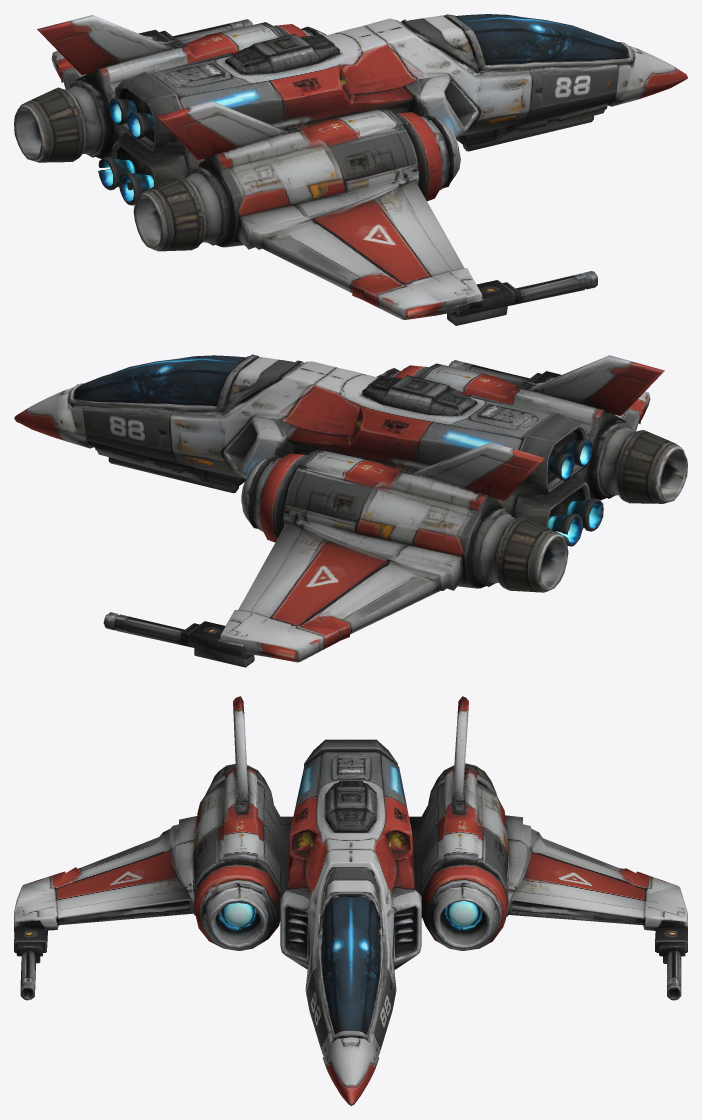
The model's file is player_ship.glb.
3 renders of one model, top to bottom at view 1: azimuth 30°, elevation 25°; view 2: azimuth 150°, elevation 25°; view 3: azimuth 270°, elevation 25°, orthographic. The views are drawn at different scales.
Visible parts, largest first — view 1: tripo_node_5cc9e37e-1fb8-4316-a38e-fb7561ca62b6; view 2: tripo_node_5cc9e37e-1fb8-4316-a38e-fb7561ca62b6; view 3: tripo_node_5cc9e37e-1fb8-4316-a38e-fb7561ca62b6.
Boxes of the visible parts, x1,y1,x2,y2 form: tripo_node_5cc9e37e-1fb8-4316-a38e-fb7561ca62b6: (14,14,687,325); tripo_node_5cc9e37e-1fb8-4316-a38e-fb7561ca62b6: (14,354,687,667); tripo_node_5cc9e37e-1fb8-4316-a38e-fb7561ca62b6: (14,696,687,1105).
Size of the model in its own units: 18.26 by 5 by 18.93.
Materials: 1 (1 with a texture image).
